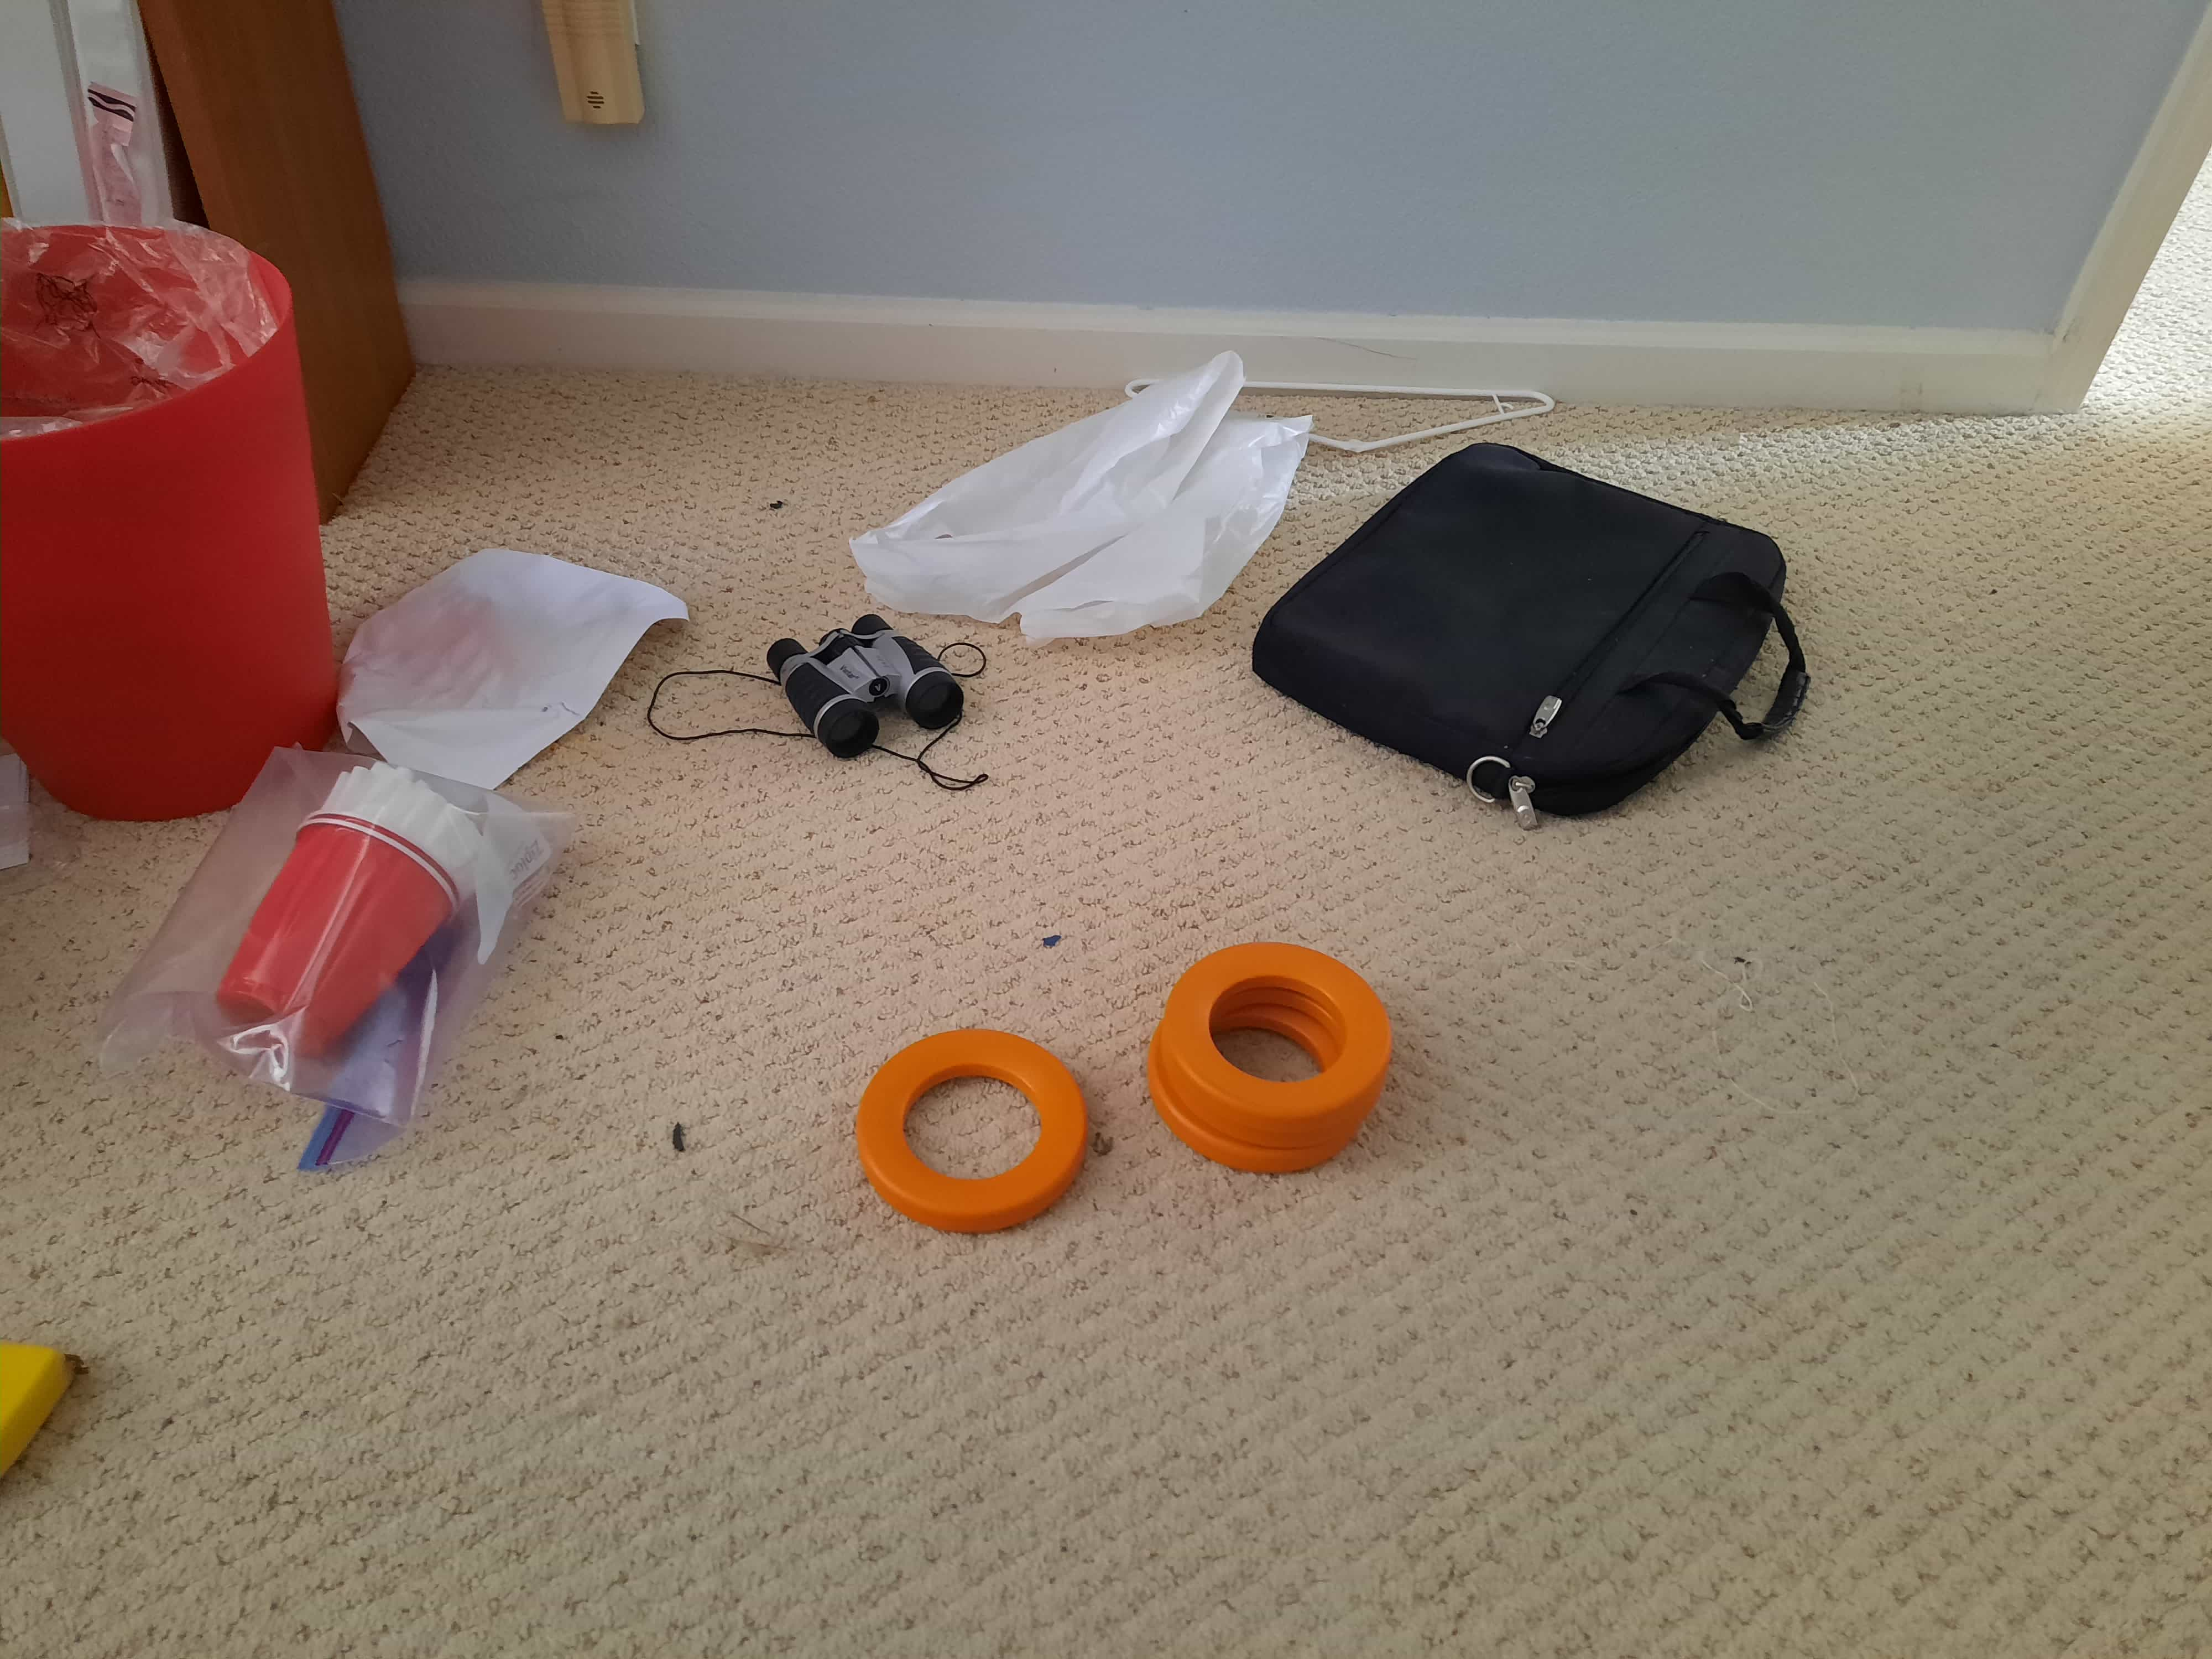FourStack: (1163, 955, 1392, 1168)
OneStack: (846, 1032, 1092, 1230)
